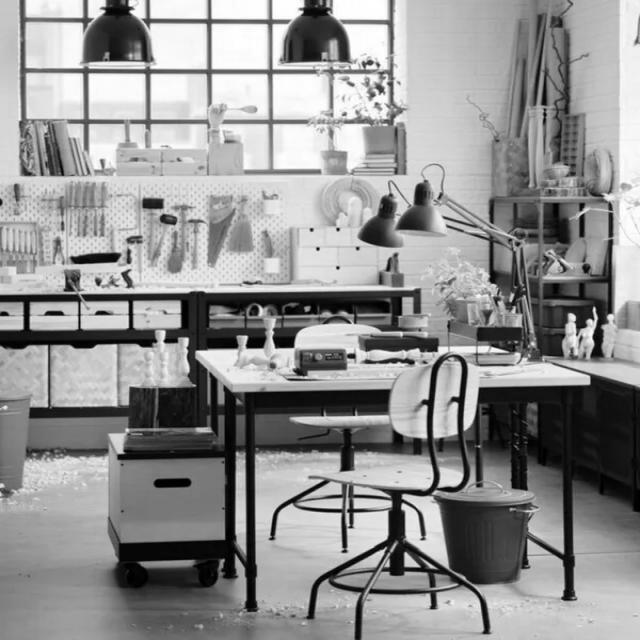table: (180, 335, 614, 429)
